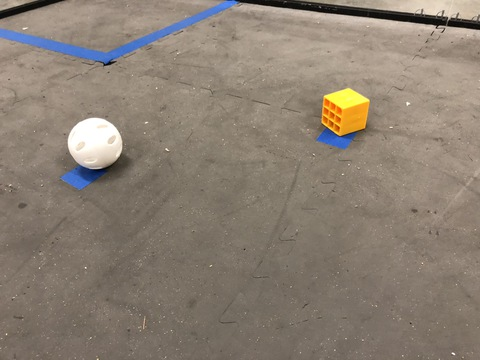ball: (57, 116, 138, 172)
block: (306, 86, 375, 146)
